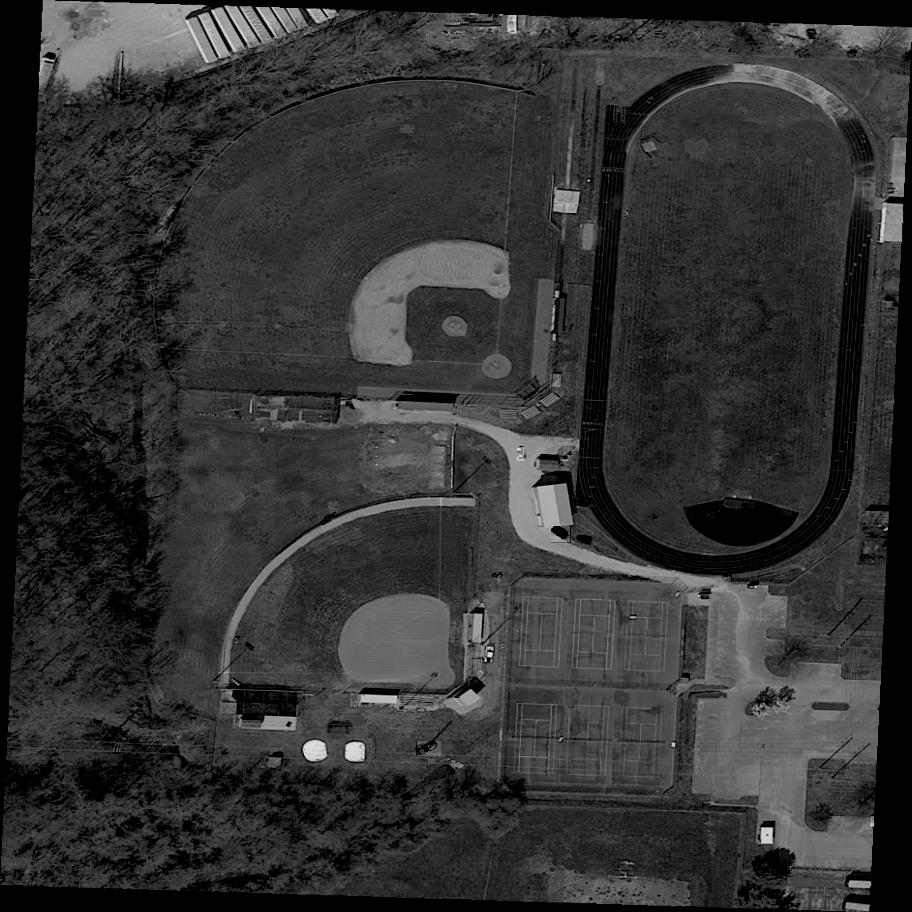small-vehicle: (417, 741, 442, 759), (552, 526, 572, 544), (517, 447, 524, 461)
